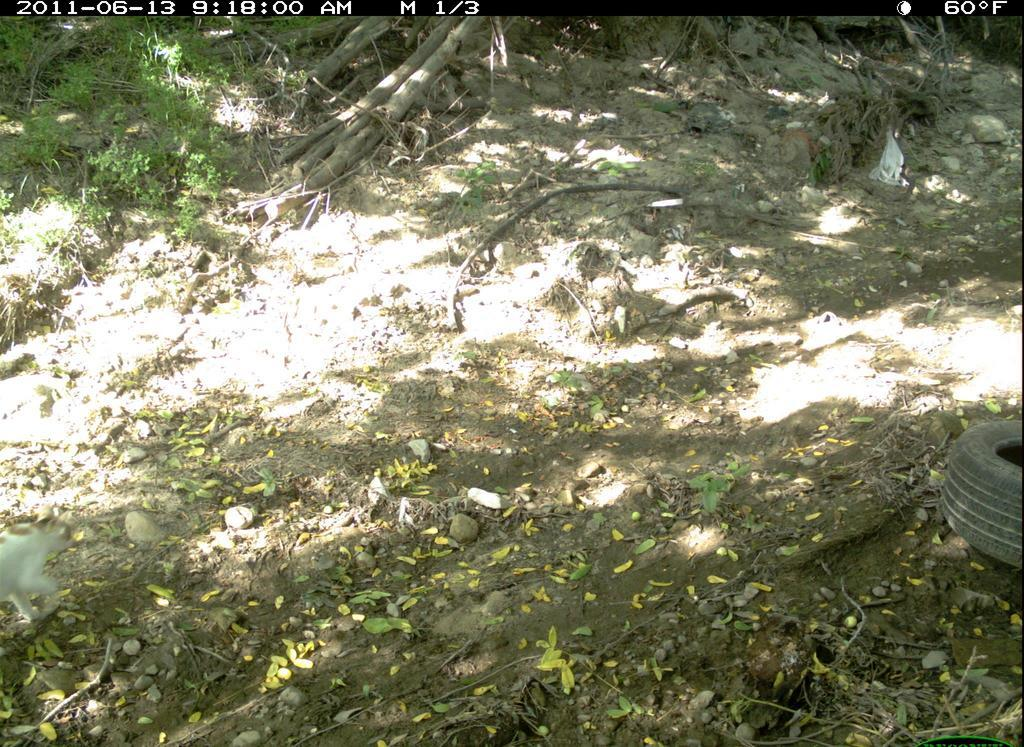cat: (7, 510, 98, 624)
